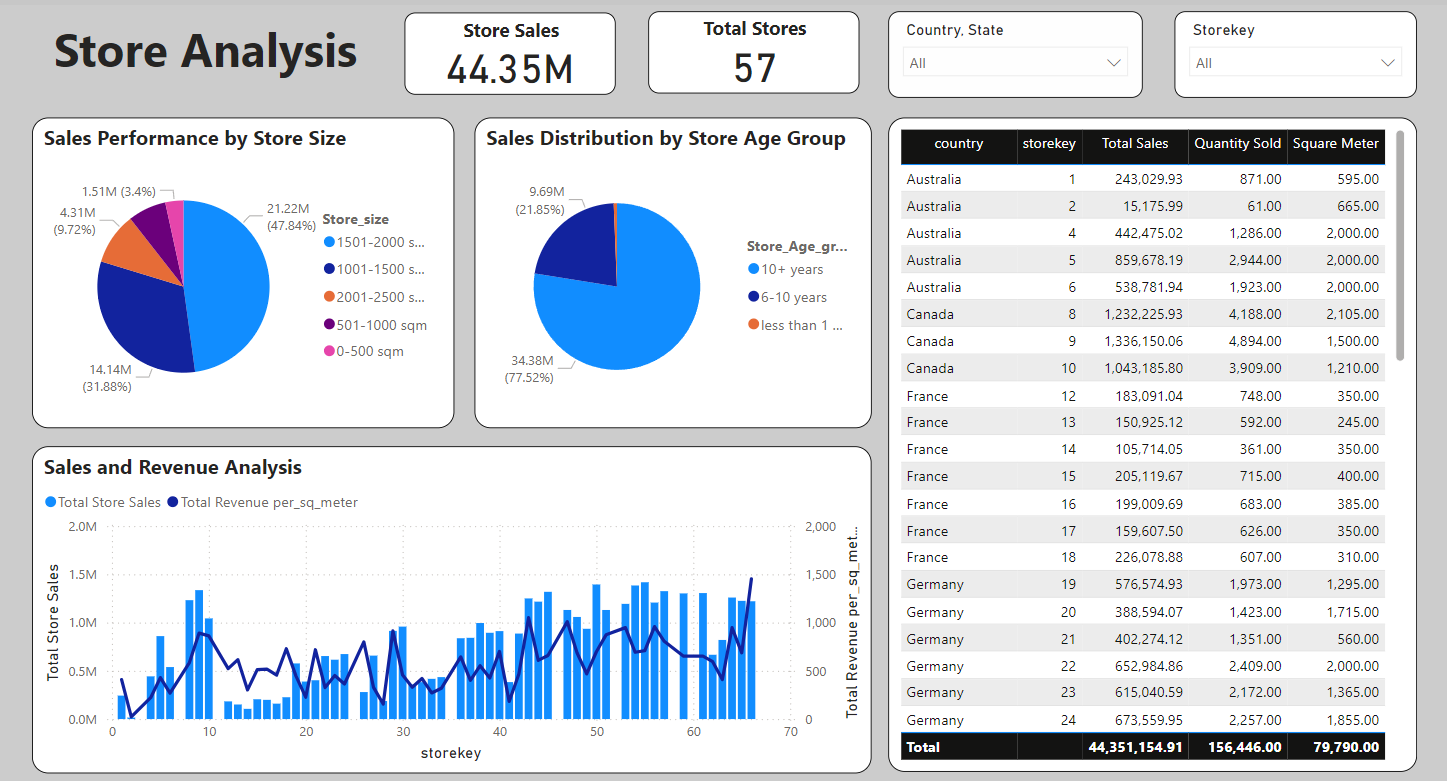

The page's visual inventory and layout, read from the dashboard file:
{"tool":"powerbi","page":{"name":"Store Analysis","canvas":[1280,720],"ordinal":3},"visuals":[{"type":"tableEx","fields":{"Values":["Stores Geographical.country","Stores Geographical.storekey","Sum(Stores Geographical.total_sales)","Store Performance.total_quantity_sold","Store Performance.square_meters"]},"box":[791.2,104.5,488.9,604.6],"z":0},{"type":"lineStackedColumnComboChart","title":"Sales and Revenue Analysis","fields":{"Category":["Store Performance.storekey"],"Y":["Sum(Store Performance.total_sales)"],"Y2":["Sum(Store Performance.revenue_per_sq_meter)"]},"box":[0,408,776.2,302.3],"z":1000},{"type":"textbox","box":[0,6.2,320.9,83.3],"z":2000},{"type":"card","title":"Store Sales","fields":{"Values":["Sum(Store Performance.total_sales)"]},"box":[344.6,7.5,195.3,75.9],"z":4000},{"type":"slicer","fields":{"Values":["Store Performance.storekey"]},"box":[1056.1,6.2,223.9,79.6],"z":5000},{"type":"slicer","fields":{"Values":["Stores Geographical.country","Stores Geographical.state"]},"box":[791.2,6.2,235.1,79.6],"z":6000},{"type":"pieChart","title":"Sales Performance by Store Size","fields":{"Category":["Stores Geographical.Store_size"],"Y":["Sum(Stores Geographical.total_sales)"]},"box":[0,104.5,390.6,287.4],"z":7000},{"type":"pieChart","title":"Sales Distribution by Store Age Group","fields":{"Category":["Store Performance.Store_Age_group"],"Y":["Sum(Store Performance.total_sales)"]},"box":[409.3,104.5,367,287.4],"z":8000},{"type":"card","title":"Total Stores","fields":{"Values":["CountNonNull(Stores Geographical.storekey)"]},"box":[569.7,6.2,195.3,75.9],"z":10000}]}

Visuals, with their boxes on the page's 1280x720 design canvas (x1, y1, x2, y2). These are canvas units, not pixel positions in the 1447x781 screenshot, which may show the page scaled, cropped or inside an application window:
tableEx - Stores Geographical.country x Stores Geographical.storekey: [left=791, top=104, right=1280, bottom=709]
"Sales and Revenue Analysis" lineStackedColumnComboChart: [left=0, top=408, right=776, bottom=710]
textbox: [left=0, top=6, right=321, bottom=90]
"Store Sales" card: [left=345, top=8, right=540, bottom=83]
slicer - Store Performance.storekey: [left=1056, top=6, right=1280, bottom=86]
slicer - Stores Geographical.country x Stores Geographical.state: [left=791, top=6, right=1026, bottom=86]
"Sales Performance by Store Size" pieChart: [left=0, top=104, right=391, bottom=392]
"Sales Distribution by Store Age Group" pieChart: [left=409, top=104, right=776, bottom=392]
"Total Stores" card: [left=570, top=6, right=765, bottom=82]
